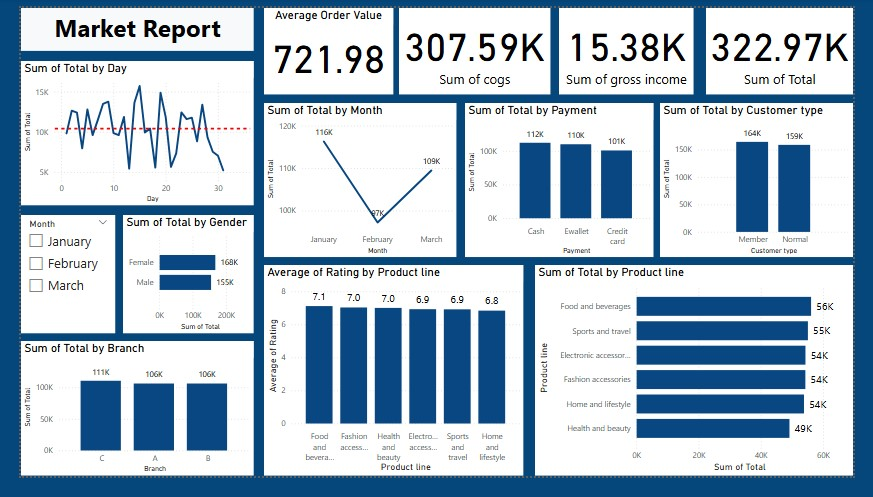

The page's visual inventory and layout, read from the dashboard file:
{"tool":"powerbi","page":{"name":"Page 1","canvas":[1280,720],"ordinal":0},"visuals":[{"type":"card","fields":{"Values":["Sum(supermarket_sales.gross income)"]},"box":[828.4,0,207.5,132.8],"z":1000},{"type":"card","fields":{"Values":["Sum(supermarket_sales.Total)"]},"box":[1053.7,0,226.9,132.8],"z":2000},{"type":"lineChart","fields":{"Category":["supermarket_sales.Date.Variation.Date Hierarchy.Month"],"Y":["Sum(supermarket_sales.Total)"]},"box":[373.1,146.3,295.5,237.3],"z":3000},{"type":"clusteredBarChart","fields":{"Category":["supermarket_sales.Product line"],"Y":["Sum(supermarket_sales.Total)"]},"box":[791,395.5,489.6,323.9],"z":4000},{"type":"columnChart","fields":{"Category":["supermarket_sales.Customer type"],"Y":["Sum(supermarket_sales.Total)"]},"box":[983.6,146.3,297,237.3],"z":5000},{"type":"columnChart","fields":{"Category":["supermarket_sales.Payment"],"Y":["Sum(supermarket_sales.Total)"]},"box":[683.6,146.3,289.6,237.3],"z":6000},{"type":"columnChart","fields":{"Y":["Avg(supermarket_sales.Rating)"],"Category":["supermarket_sales.Product line"]},"box":[373.1,395.5,398.5,323.9],"z":7000},{"type":"clusteredBarChart","fields":{"Category":["supermarket_sales.Gender"],"Y":["Sum(supermarket_sales.Total)"]},"box":[156.7,317.9,201.5,182.1],"z":8000},{"type":"slicer","fields":{"Values":["supermarket_sales.Date.Variation.Date Hierarchy.Month"]},"box":[0,317.9,144.8,182.1],"z":9000},{"type":"lineChart","fields":{"Category":["supermarket_sales.Date.Variation.Date Hierarchy.Day"],"Y":["Sum(supermarket_sales.Total)"]},"box":[0,82.1,358.2,222.4],"z":10000},{"type":"columnChart","fields":{"Category":["supermarket_sales.Branch"],"Y":["Sum(supermarket_sales.Total)"]},"box":[0,511.9,358.2,207.5],"z":11000},{"type":"kpi","title":"Average Order Value","fields":{"Indicator":["Sum(supermarket_sales.Total)"],"TrendLine":["supermarket_sales.Invoice ID"]},"box":[373.1,0,198.5,132.8],"z":12000},{"type":"card","fields":{"Values":["Sum(supermarket_sales.cogs)"]},"box":[582.1,0,232.8,132.8],"z":12001},{"type":"textbox","box":[0,0,358.2,65.7],"z":12002}]}

Visuals, with their boxes in screenshot pixels (x1, y1, x2, y2), scaled from the page's 1280x720 canvas onto the 873x497 screenshot:
card - Sum(supermarket_sales.gross income): <bbox>565, 0, 707, 92</bbox>
card - Sum(supermarket_sales.Total): <bbox>719, 0, 872, 92</bbox>
lineChart - supermarket_sales.Date.Variation.Date Hierarchy.Month x Sum(supermarket_sales.Total): <bbox>254, 101, 456, 265</bbox>
clusteredBarChart - supermarket_sales.Product line x Sum(supermarket_sales.Total): <bbox>539, 273, 872, 496</bbox>
columnChart - supermarket_sales.Customer type x Sum(supermarket_sales.Total): <bbox>671, 101, 872, 265</bbox>
columnChart - supermarket_sales.Payment x Sum(supermarket_sales.Total): <bbox>466, 101, 664, 265</bbox>
columnChart - Avg(supermarket_sales.Rating) x supermarket_sales.Product line: <bbox>254, 273, 526, 496</bbox>
clusteredBarChart - supermarket_sales.Gender x Sum(supermarket_sales.Total): <bbox>107, 219, 244, 345</bbox>
slicer - supermarket_sales.Date.Variation.Date Hierarchy.Month: <bbox>0, 219, 99, 345</bbox>
lineChart - supermarket_sales.Date.Variation.Date Hierarchy.Day x Sum(supermarket_sales.Total): <bbox>0, 57, 244, 210</bbox>
columnChart - supermarket_sales.Branch x Sum(supermarket_sales.Total): <bbox>0, 353, 244, 496</bbox>
"Average Order Value" kpi: <bbox>254, 0, 390, 92</bbox>
card - Sum(supermarket_sales.cogs): <bbox>397, 0, 556, 92</bbox>
textbox: <bbox>0, 0, 244, 45</bbox>
